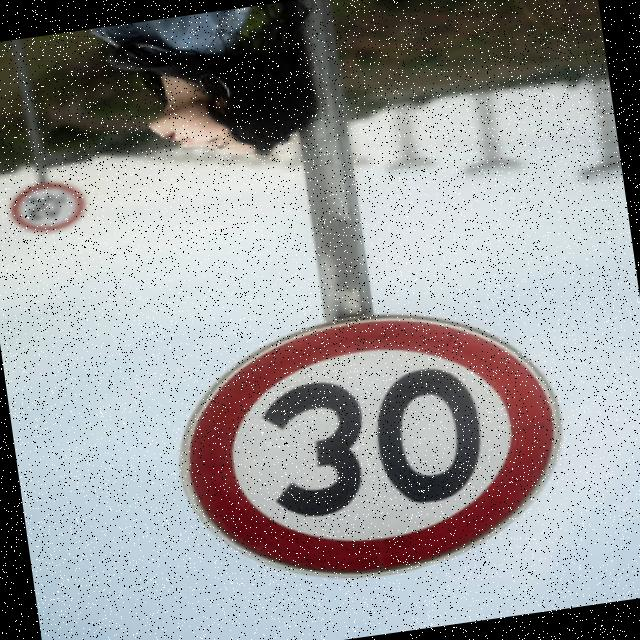speed_limit_30: (158, 290, 568, 605)
